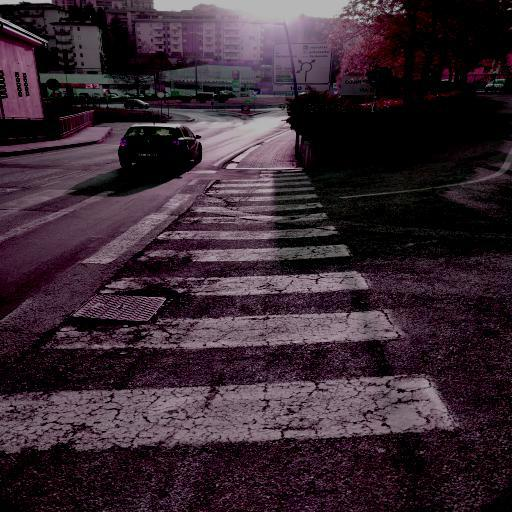crosswalk: (0, 300, 479, 459), (134, 223, 356, 268)
